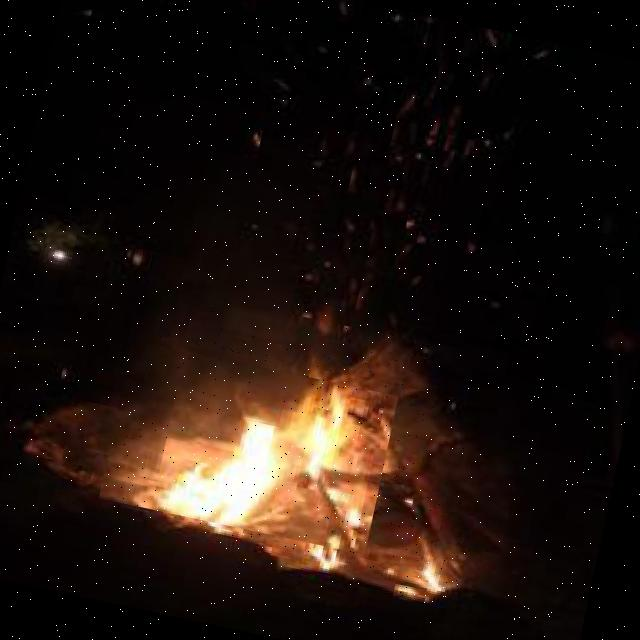fire: (98, 340, 398, 554)
